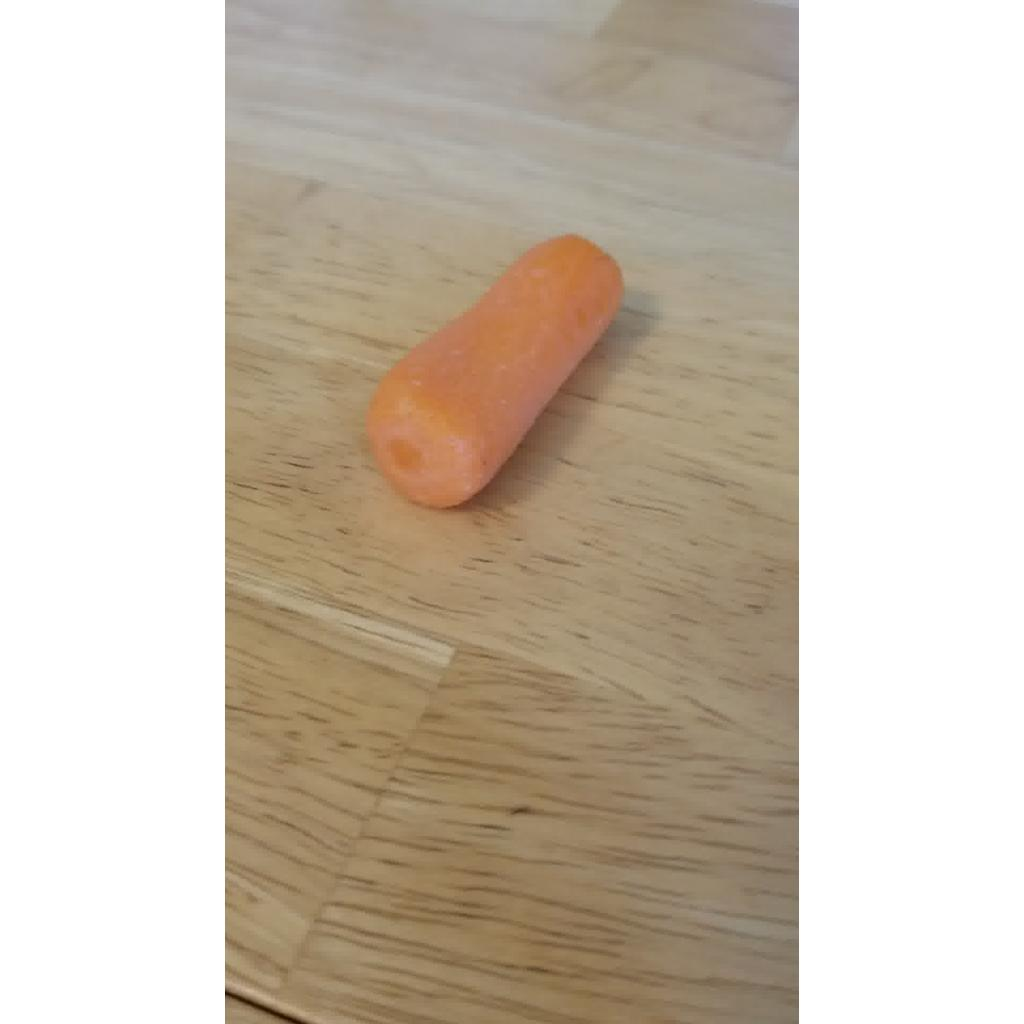carrot: (367, 236, 623, 506)
